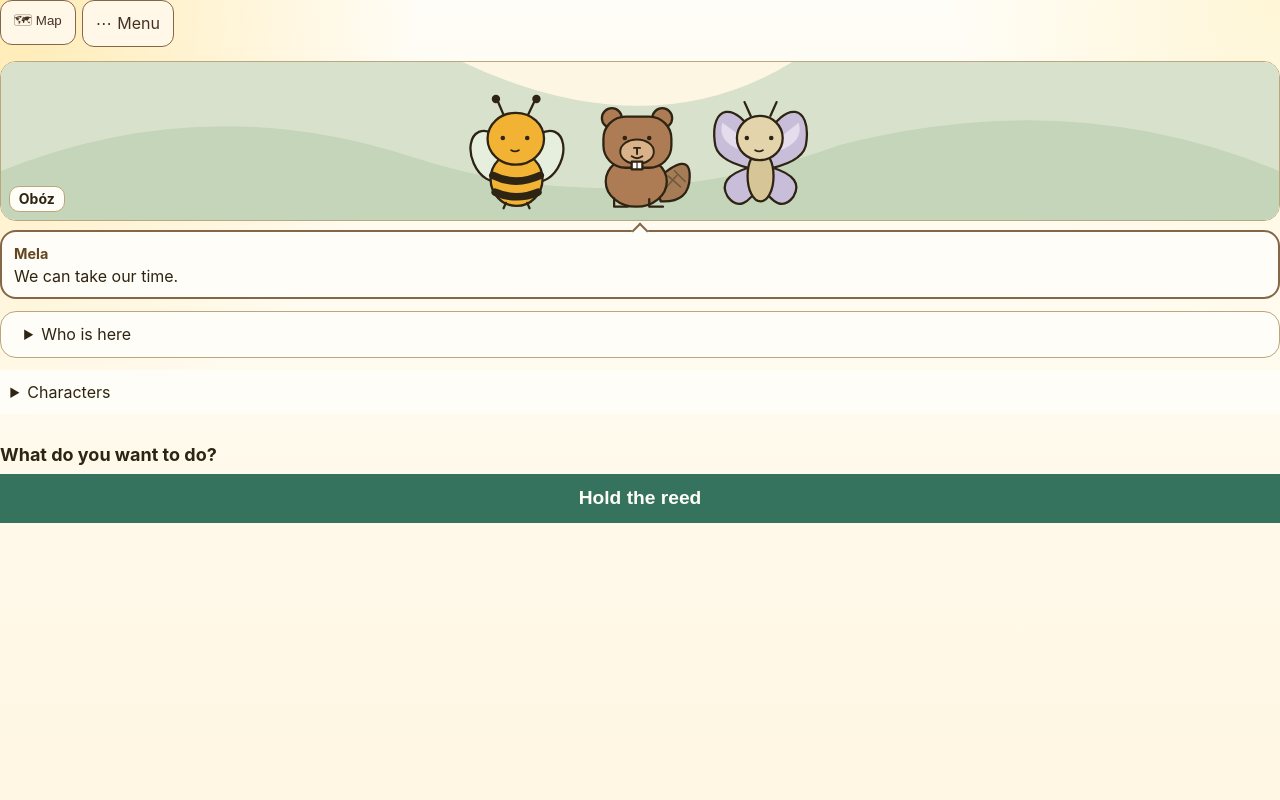
Test: keeps the map open and reselects the current tile after rejected travel
This screenshot has width=1280, height=800.
Click the button with class "game-map-button".
click(38, 22)  # box [0,0,76,45]
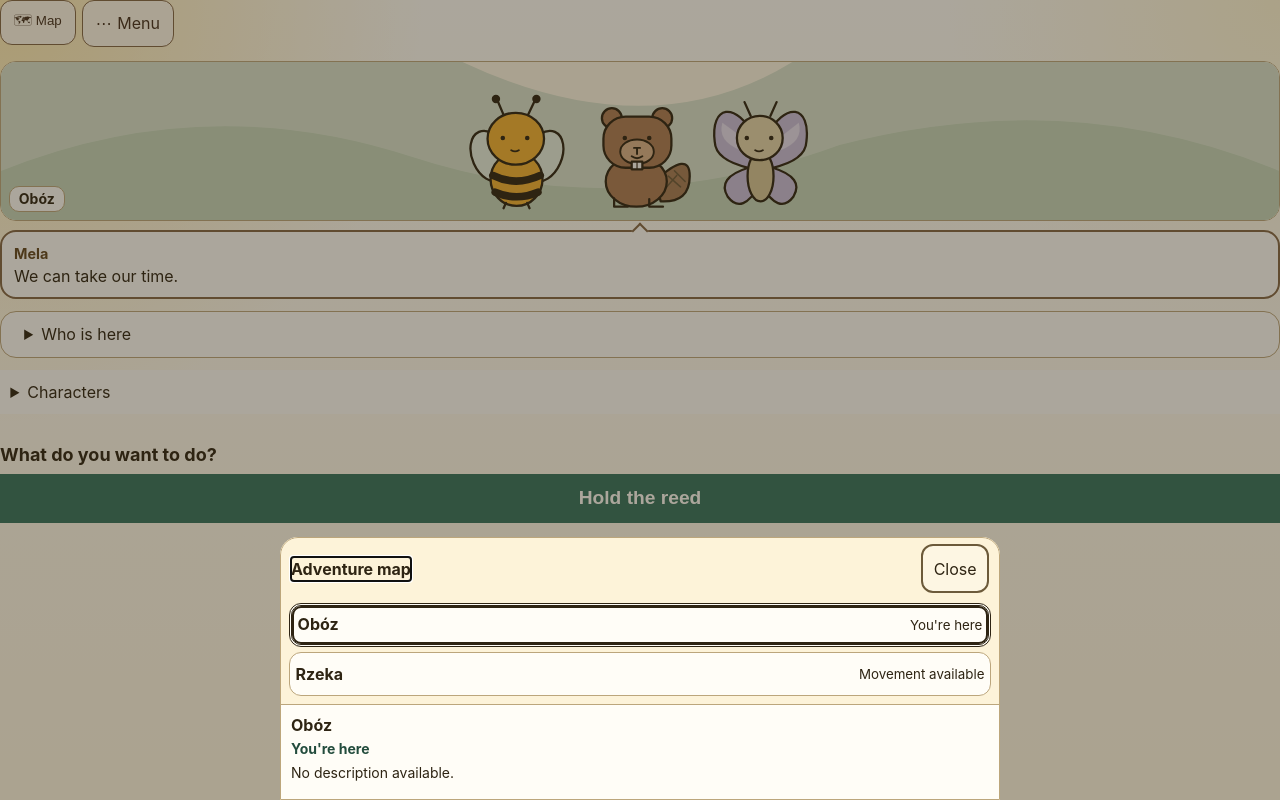
Click the button "Rzeka Movement available".
click(319, 674)  # box [289,652,991,696]
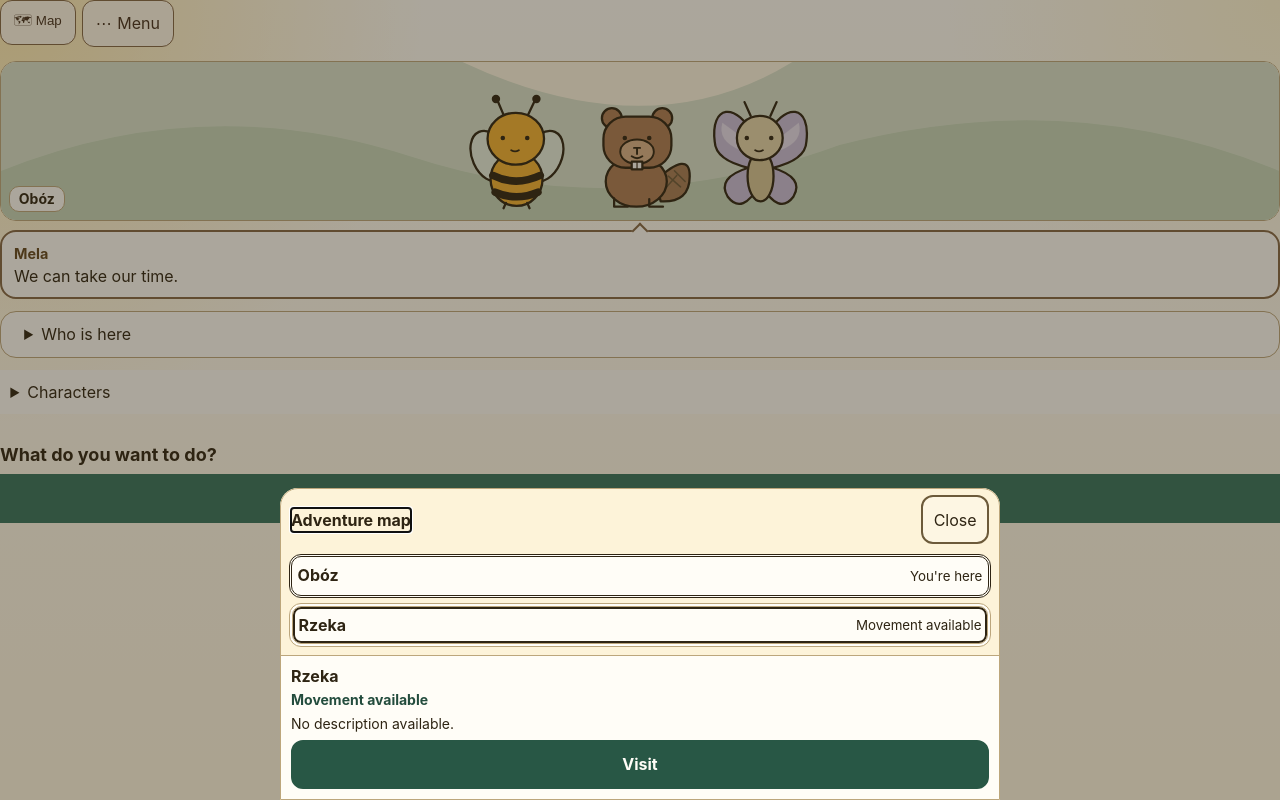
Click the button "Visit".
click(640, 764)  # box [291,740,989,789]
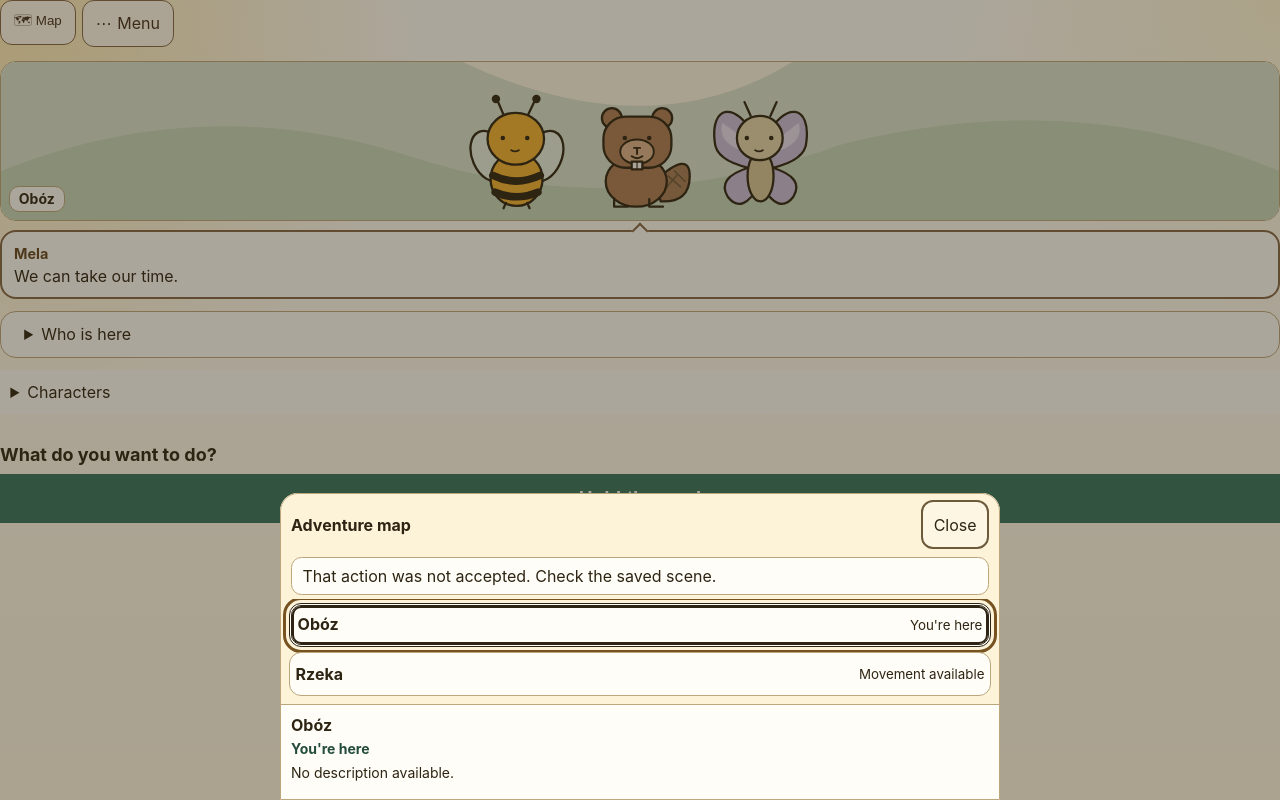
Check: the message "That action was not accepted. Check the saved scene." is shown, box [291,558,989,595]
